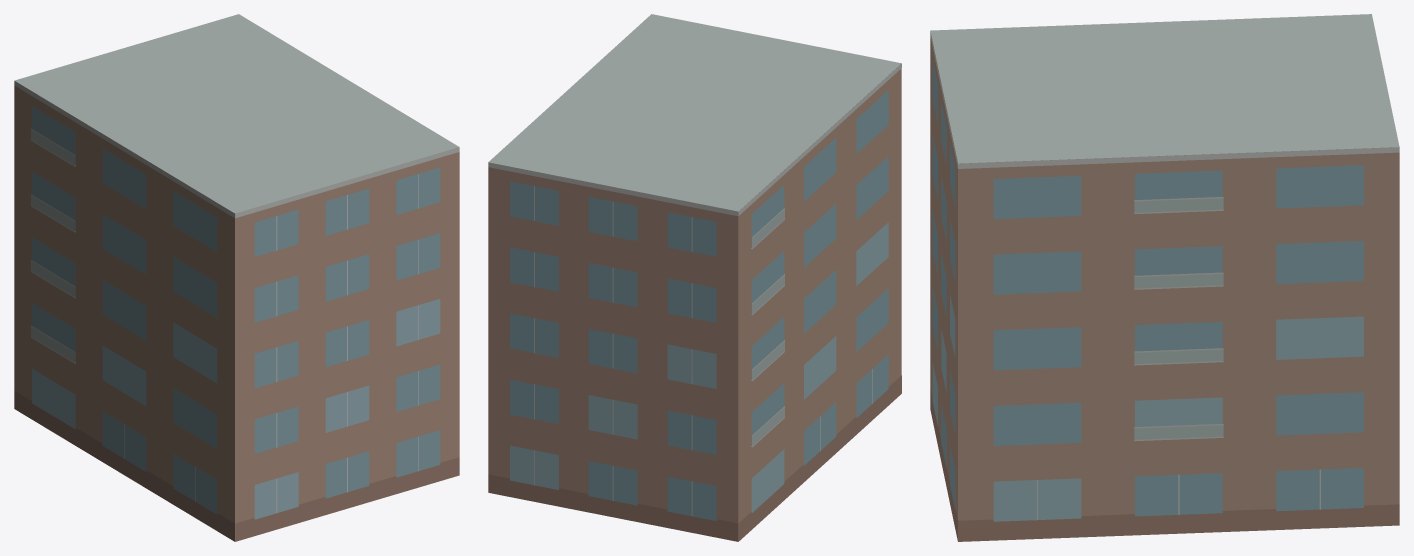
File: survey-upis-32918097.glb
3 renders of one model, left to right at view 1: azimuth 30°, elevation 25°; view 2: azimuth 150°, elevation 25°; view 3: azimuth 270°, elevation 25°, orthographic. The views are drawn at different scales.
Visible parts, largest first — view 1: survey-upis-32918097.tmp; view 2: survey-upis-32918097.tmp; view 3: survey-upis-32918097.tmp.
Boxes of the visible parts, left/top/right/bottom form: survey-upis-32918097.tmp: left=14, top=14, right=459, bottom=541; survey-upis-32918097.tmp: left=488, top=14, right=901, bottom=541; survey-upis-32918097.tmp: left=930, top=14, right=1399, bottom=541.
Bounding box in the file's own units: 14.31 × 16.87 × 18.98.
